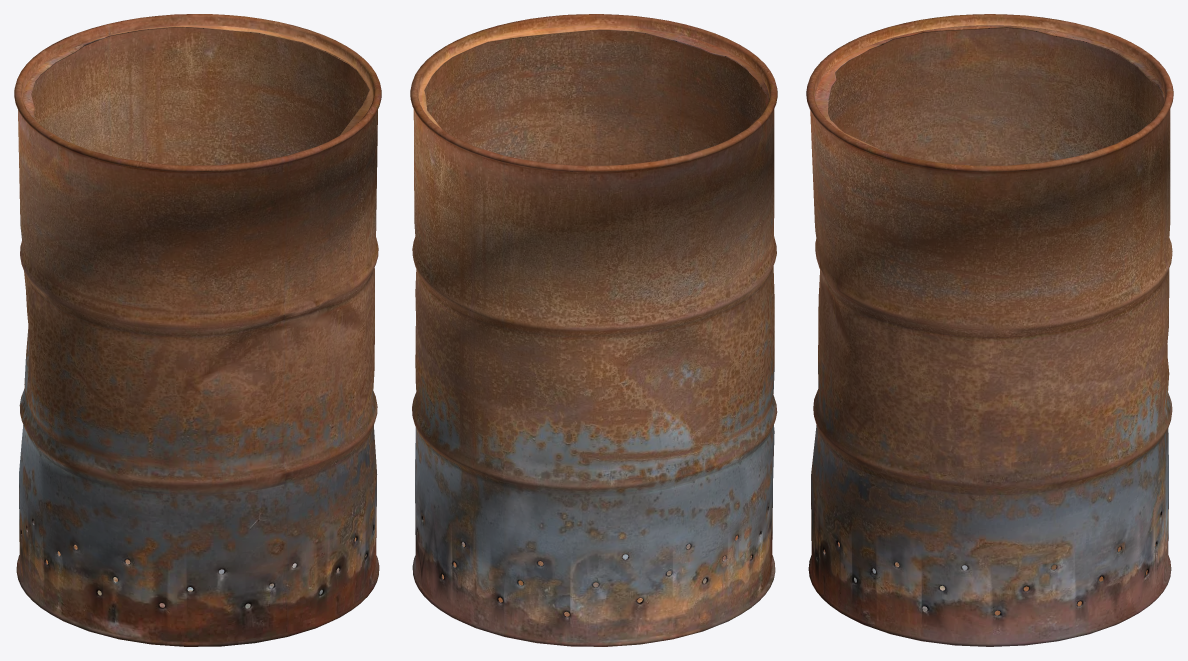
Rendered from barrel-stove.glb.
3 renders of one model, left to right at view 1: azimuth 30°, elevation 25°; view 2: azimuth 150°, elevation 25°; view 3: azimuth 270°, elevation 25°, orthographic.
Visible parts, largest first — view 1: barrel_stove; view 2: barrel_stove; view 3: barrel_stove.
Boxes of the visible parts, bbox=[...] form: barrel_stove: bbox=[14, 14, 381, 646]; barrel_stove: bbox=[410, 14, 777, 646]; barrel_stove: bbox=[806, 14, 1173, 646].
Size of the model in its own units: 0.5926 by 0.8556 by 0.5926.
Materials: 1 (1 with a texture image).
